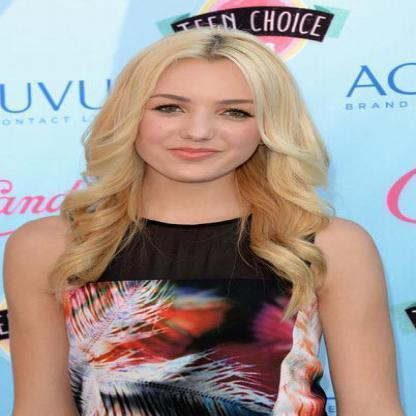long-hair: (52, 182, 337, 225)
